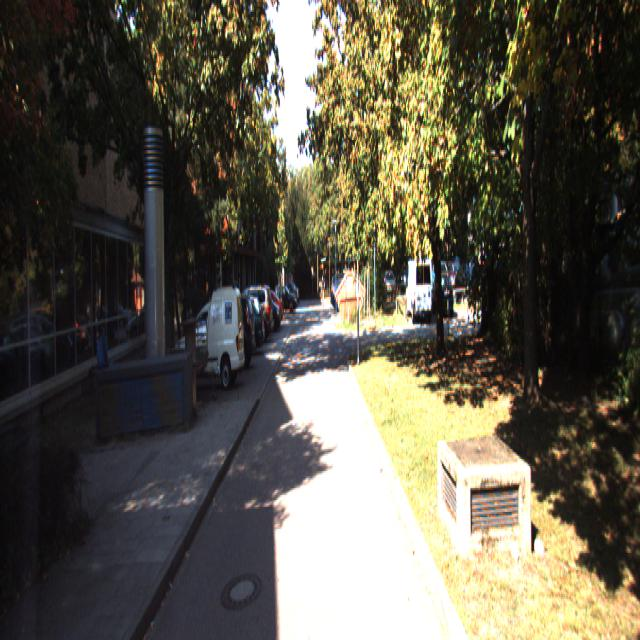Car: (175, 283, 245, 392), (194, 290, 257, 372), (213, 295, 265, 355), (224, 282, 273, 343), (404, 257, 434, 323)
